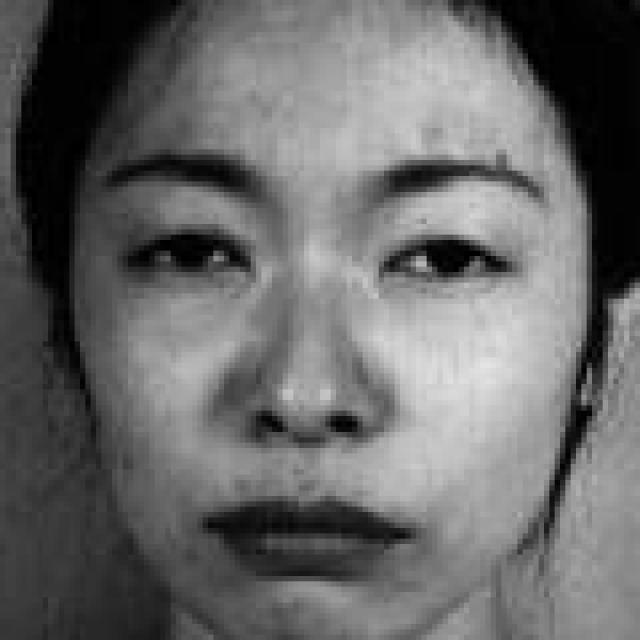sad: (61, 63, 584, 624)
